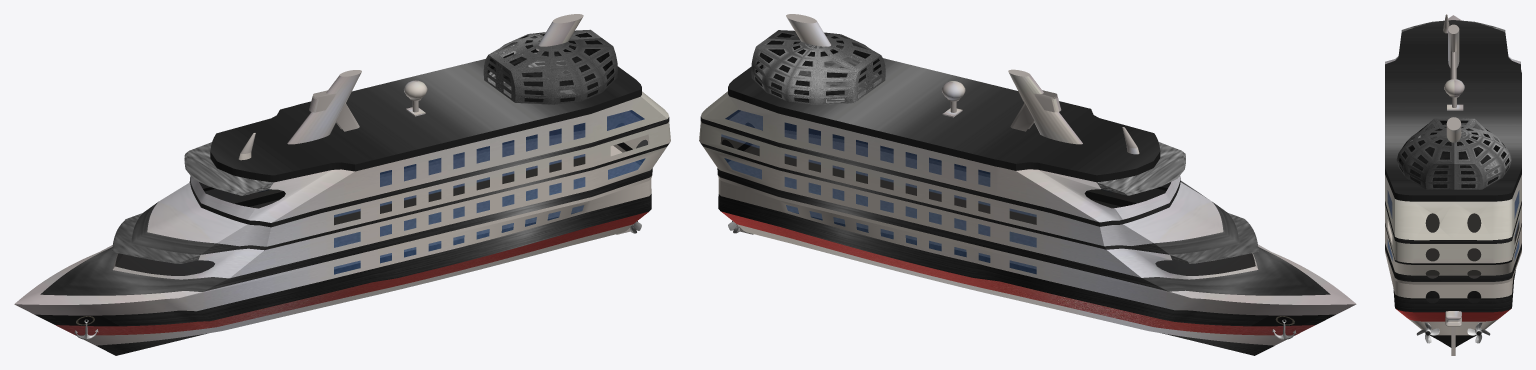
Rendered from Ship.glb.
The picture shows the model from 3 angles, left to right: view 1: azimuth 30°, elevation 25°; view 2: azimuth 150°, elevation 25°; view 3: azimuth 270°, elevation 25°; orthographic projection. The views are drawn at different scales.
Visible parts, largest first — view 1: Object_12, Object_9, Object_11, Object_7, Object_6, Object_10; view 2: Object_12, Object_9, Object_11, Object_7, Object_6, Object_10; view 3: Object_9, Object_12, Object_11, Object_10, Object_6, Object_4, Object_13, Object_7, Object_5.
Part boxes in pixels (x1,y1,x2,y2): Object_12: [14, 14, 670, 345]; Object_9: [35, 49, 669, 355]; Object_11: [112, 29, 617, 263]; Object_7: [334, 110, 645, 274]; Object_6: [55, 211, 648, 335]; Object_10: [115, 31, 647, 275]; Object_12: [699, 14, 1356, 345]; Object_9: [700, 42, 1335, 355]; Object_11: [751, 30, 1258, 263]; Object_7: [720, 110, 1036, 274]; Object_6: [721, 211, 1315, 335]; Object_10: [722, 31, 1255, 275]; Object_9: [1385, 20, 1521, 347]; Object_12: [1385, 14, 1521, 355]; Object_11: [1396, 20, 1511, 189]; Object_10: [1399, 120, 1509, 298]; Object_6: [1396, 308, 1511, 321]; Object_4: [1416, 322, 1490, 343]; Object_13: [1445, 104, 1463, 326]; Object_7: [1387, 190, 1519, 260]; Object_5: [1426, 275, 1480, 303].
Size of the model in its own units: 9.48 by 3.26 by 1.97.
10 materials, 9 textured.
